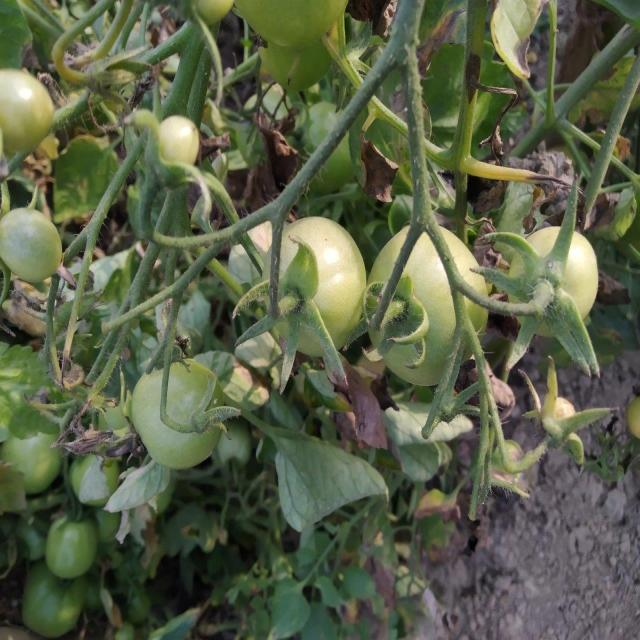Unripe: (368, 223, 487, 386), (259, 215, 365, 356), (511, 221, 600, 332)
